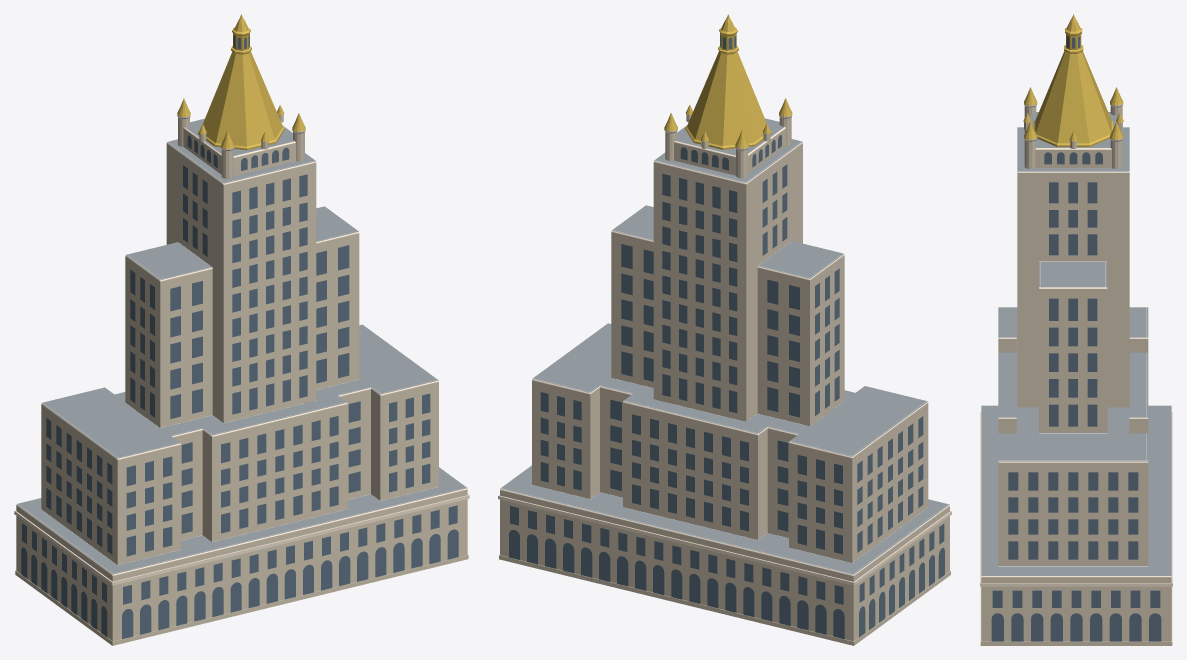
File: nyc-new-york-life.glb
3 views of the same model, side by side, from view 1: azimuth 30°, elevation 25°; view 2: azimuth 150°, elevation 25°; view 3: azimuth 270°, elevation 25° (orthographic).
Parts seen in each view (by area): view 1: New York Life Building; view 2: New York Life Building; view 3: New York Life Building.
Boxes of the visible parts, <box> form: New York Life Building: <box>14,14,469,645</box>; New York Life Building: <box>498,14,951,645</box>; New York Life Building: <box>980,14,1172,645</box>.
Size of the model in its own units: 126 by 188 by 60.1.
